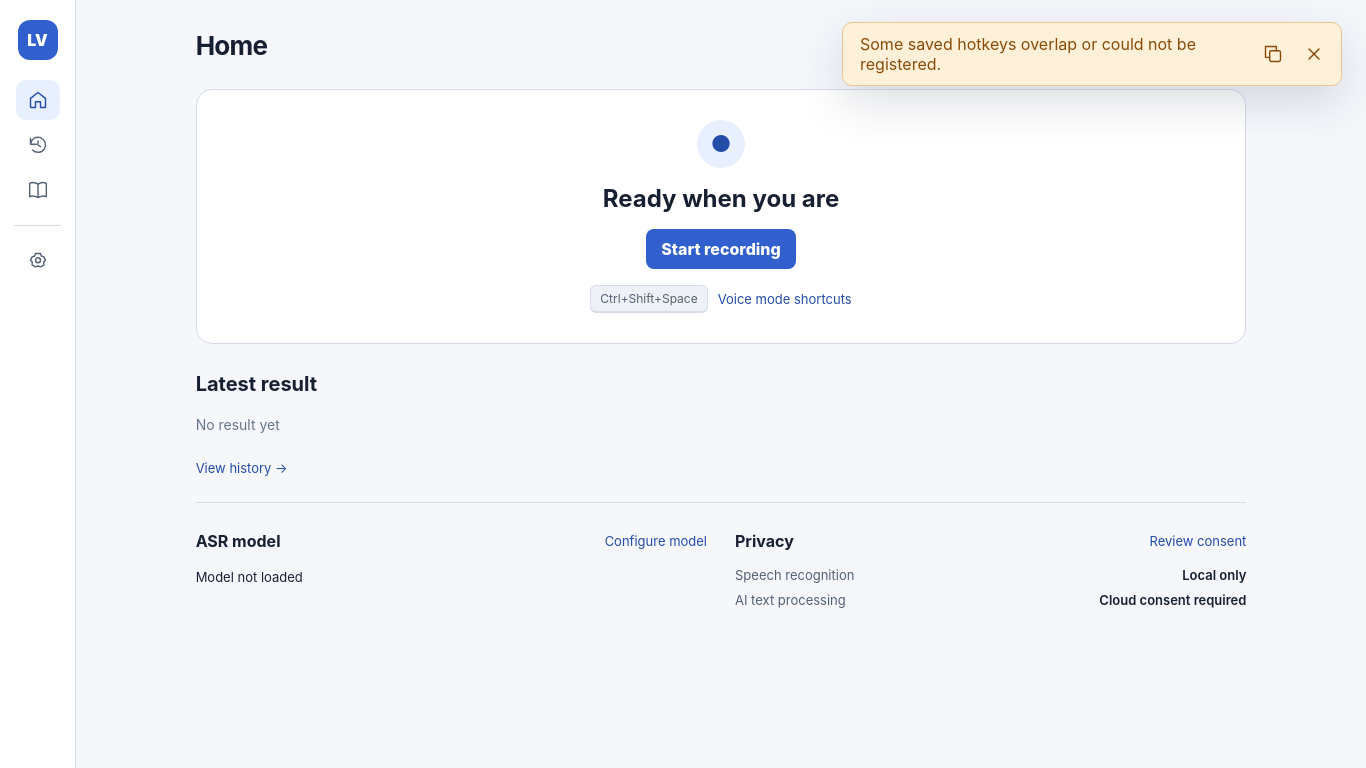
Test: startup shortcut notice does not prevent the main interface from rendering
This screenshot has width=1366, height=768.
Click the button named "Dictionary". click: [38, 190]
box: [16,170,60,210]
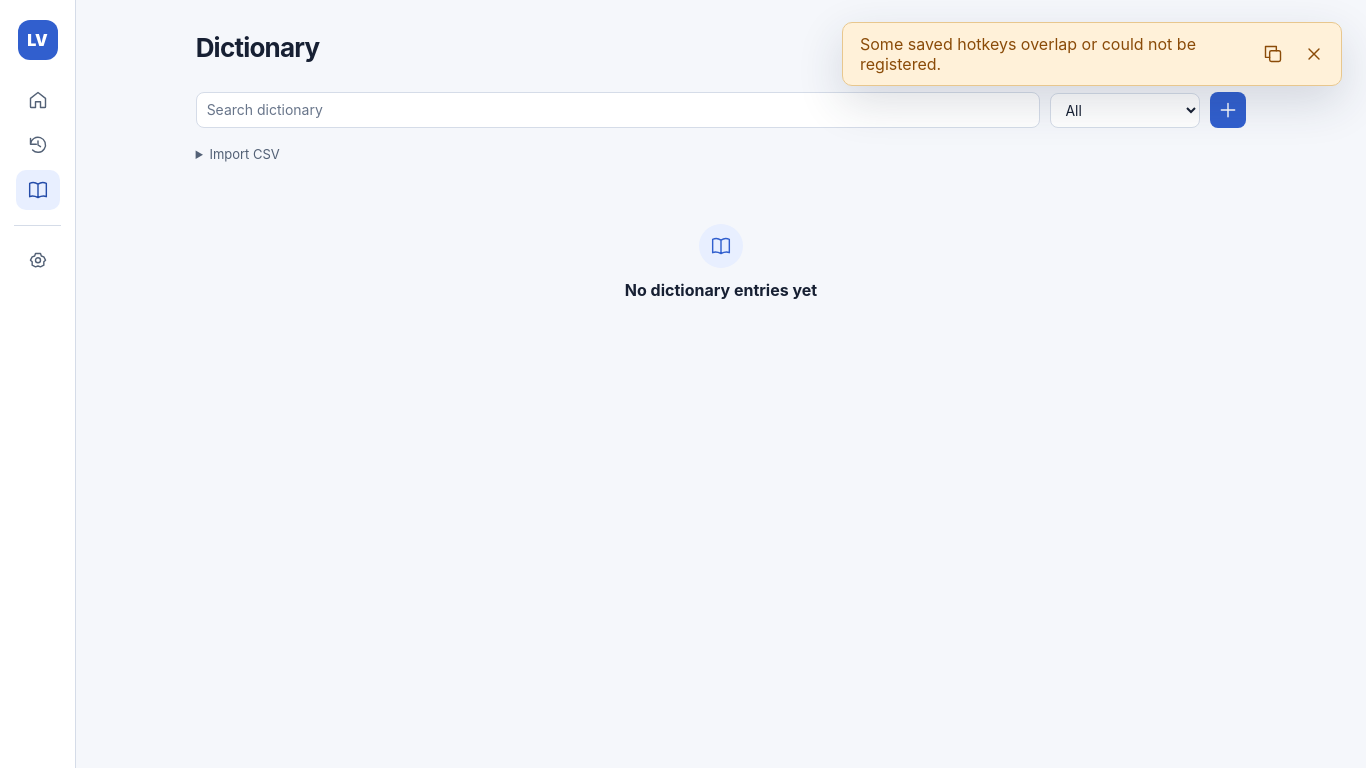
expect the button named "Add entry" is shown: met, box [1210,92,1246,128]
